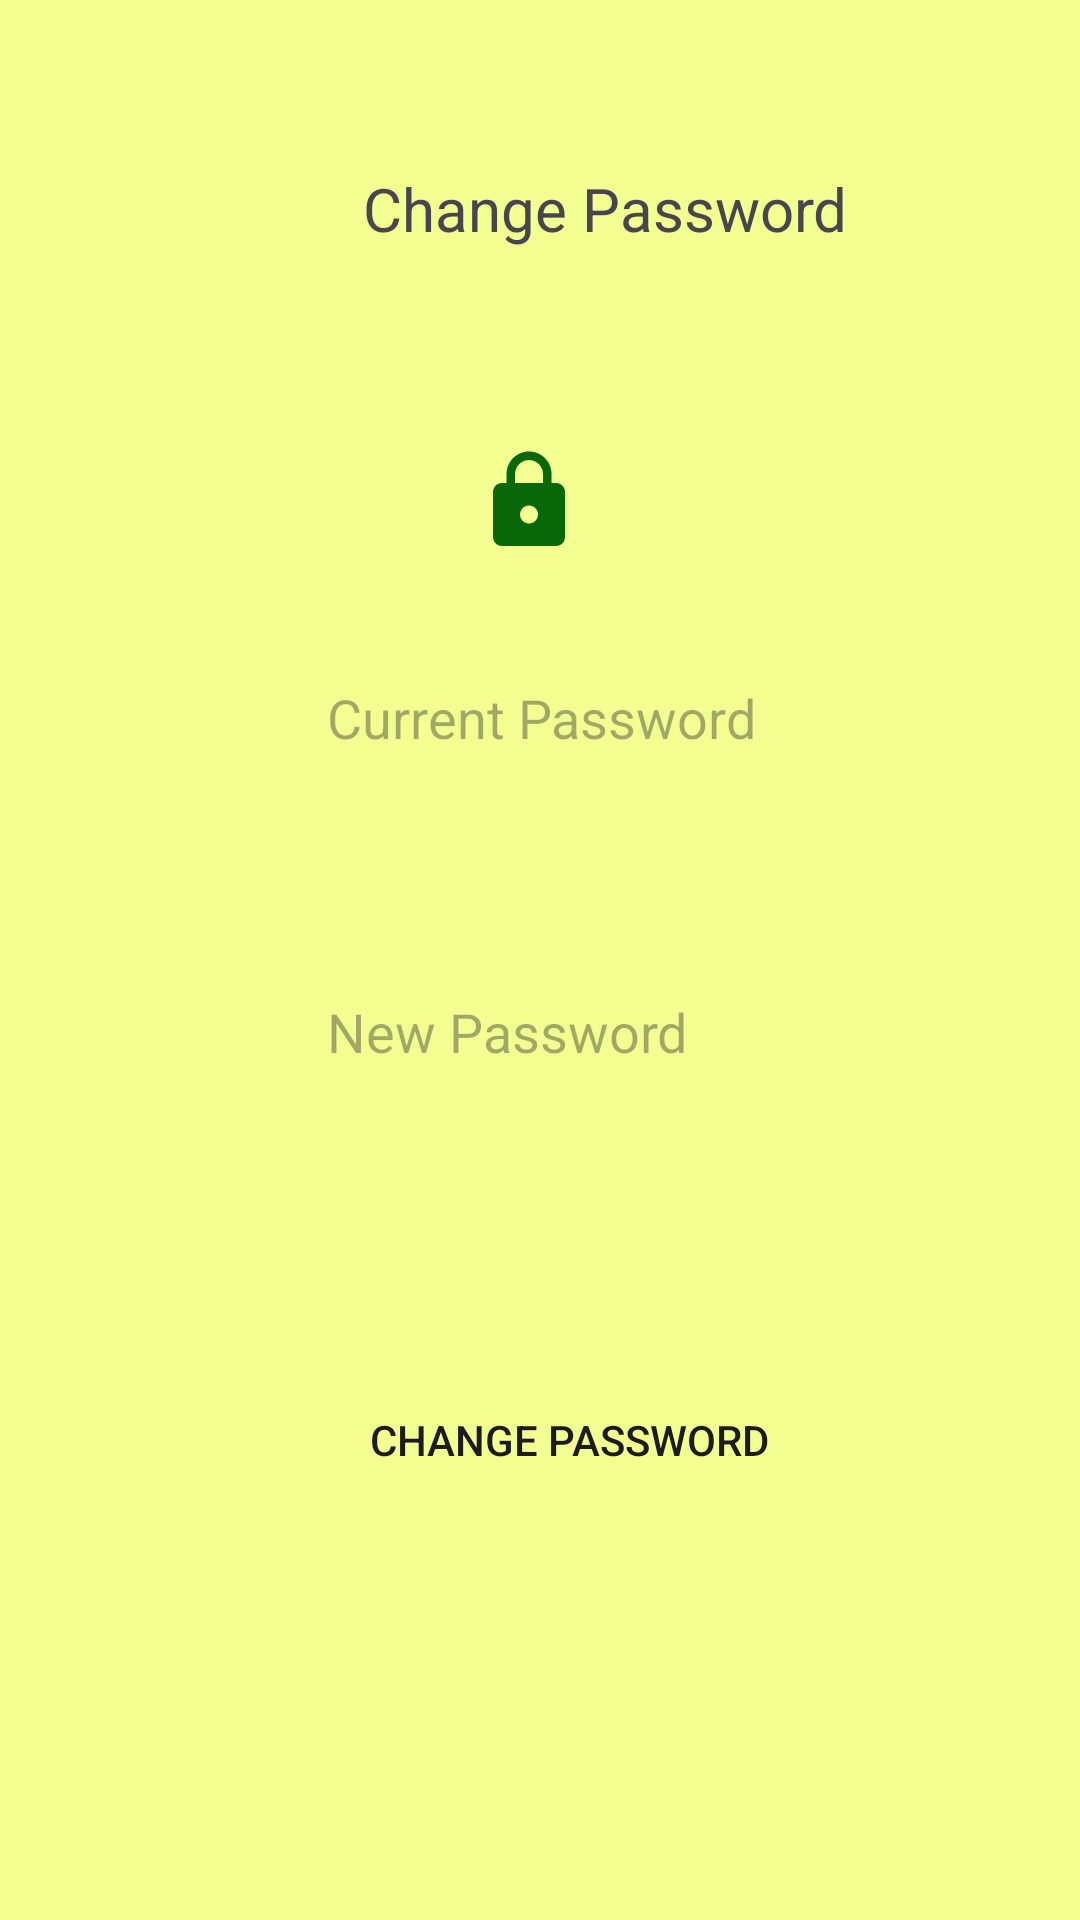

Icons on this 1080px x 1920px Android screen, each with its box as bbox=[x1, y1, x2, y2]:
lock: bbox=[493, 451, 565, 546]
